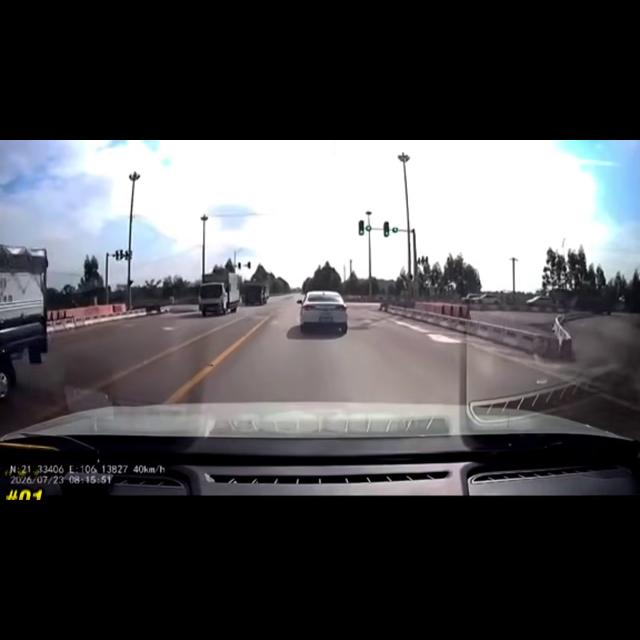car: (297, 291, 347, 333), (470, 294, 499, 304), (526, 296, 554, 306), (462, 294, 481, 303)
truck: (0, 245, 47, 398), (198, 272, 240, 315), (243, 282, 269, 305)
